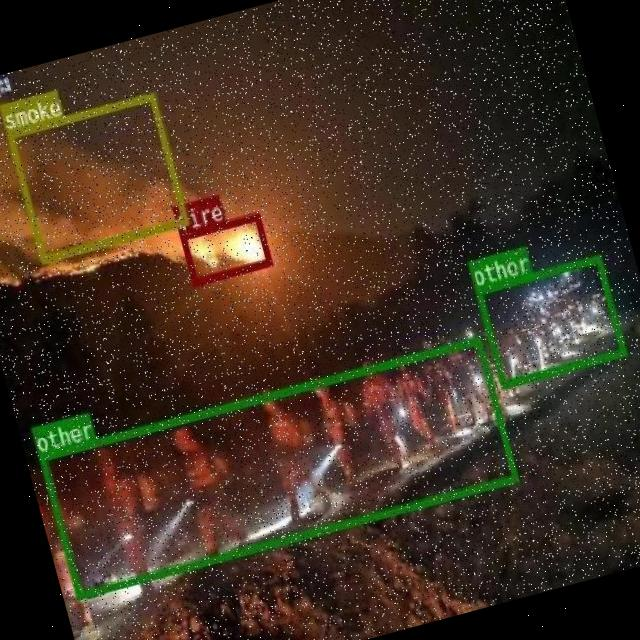smoke: (5, 90, 188, 262)
